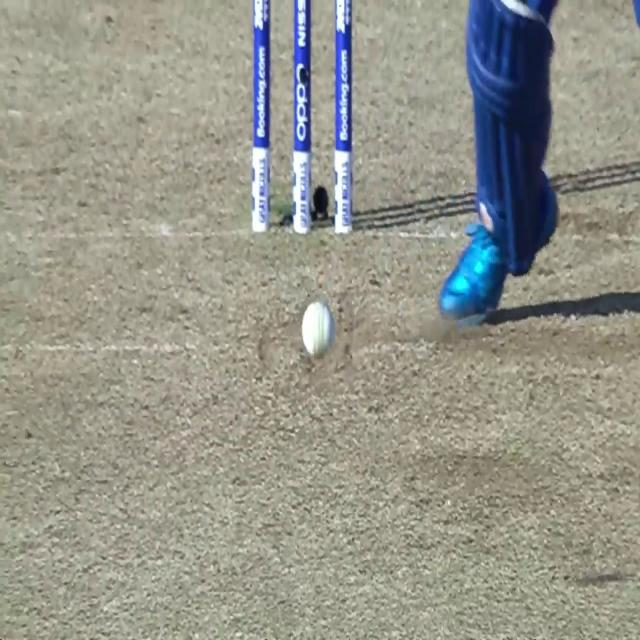ball: (300, 300, 336, 360)
